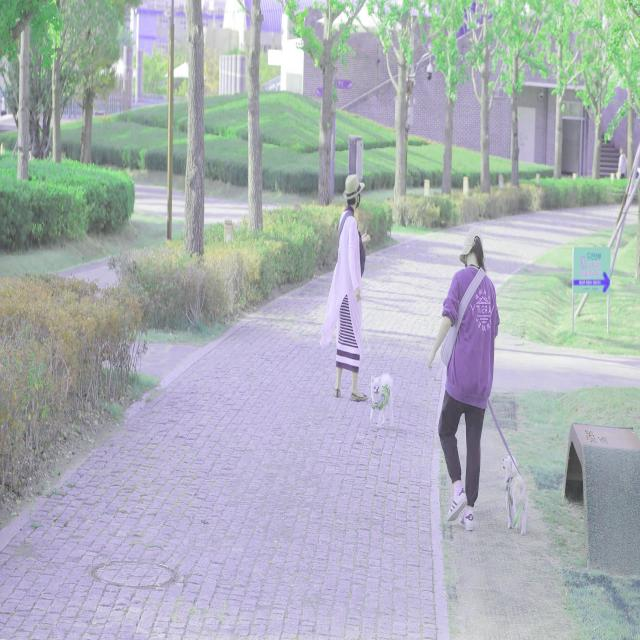Leashed_Dog: (466, 399, 528, 534), (350, 293, 394, 427)
